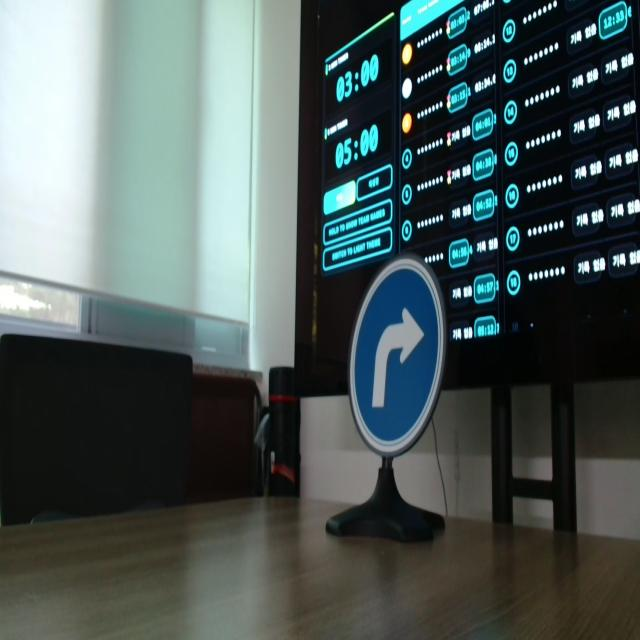right_dierection: (347, 261, 464, 472)
